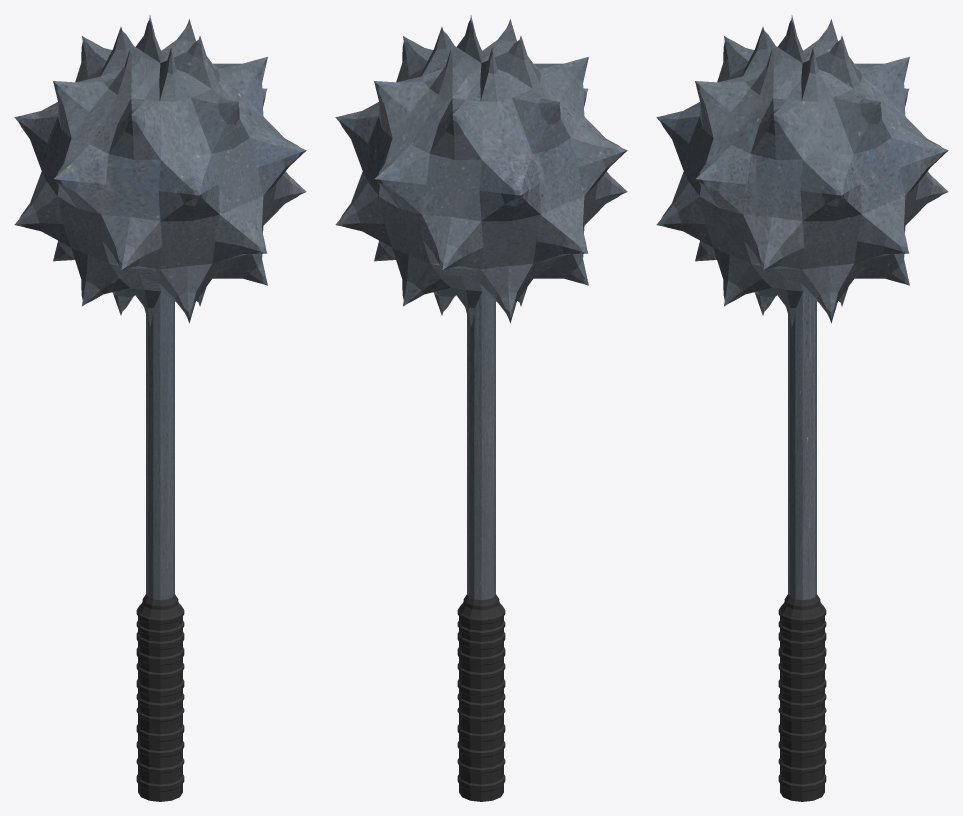
File: sg-morning-star-mace.fbx
The picture shows the model from 3 angles, left to right: view 1: azimuth 30°, elevation 25°; view 2: azimuth 150°, elevation 25°; view 3: azimuth 270°, elevation 25°; orthographic projection.
Visible parts, largest first — view 1: top_1, bot_1, rod_1; view 2: top_1, bot_1, rod_1; view 3: top_1, bot_1, rod_1.
Boxes of the visible parts, x1,y1,x2,y2 form: top_1: [14, 15, 306, 327]; bot_1: [136, 594, 184, 801]; rod_1: [146, 291, 174, 600]; top_1: [335, 15, 627, 327]; bot_1: [457, 594, 505, 801]; rod_1: [467, 291, 495, 600]; top_1: [656, 15, 948, 327]; bot_1: [778, 594, 826, 801]; rod_1: [788, 291, 816, 600].
Size of the model in its own units: 246 by 708 by 246.
3 materials, 3 textured.
